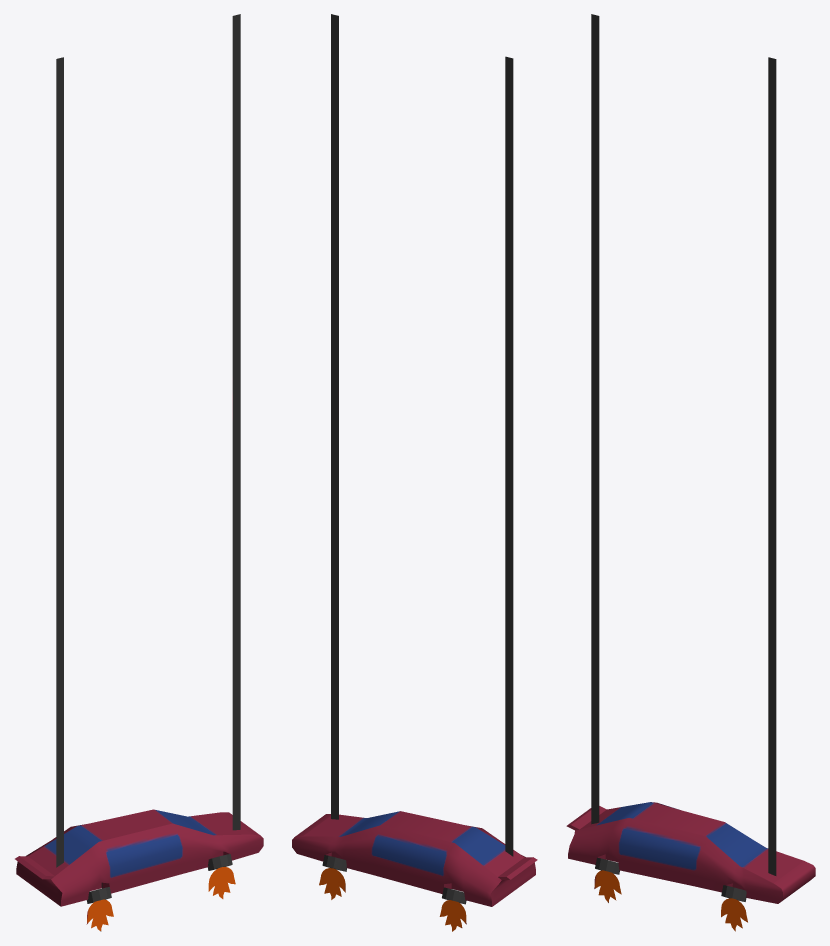
The model's file is FlyingCar.fbx.
3 views of the same model, side by side, from view 1: azimuth 30°, elevation 25°; view 2: azimuth 150°, elevation 25°; view 3: azimuth 330°, elevation 25° (orthographic).
Parts seen in each view (by area): view 1: Car, String2, String1, Flame2, Flame1; view 2: Car, String1, String2, Flame3, Flame4; view 3: Car, String2, String1, Flame2, Flame1.
Part boxes in pixels (left/top/right/bottom): Car: left=15, top=809, right=263, bottom=906; String2: left=232, top=14, right=240, bottom=830; String1: left=56, top=57, right=63, bottom=867; Flame2: left=208, top=866, right=235, bottom=898; Flame1: left=86, top=899, right=113, bottom=931; Car: left=292, top=811, right=537, bottom=906; String1: left=505, top=56, right=513, bottom=856; String2: left=331, top=14, right=338, bottom=819; Flame3: left=319, top=868, right=345, bottom=899; Flame4: left=439, top=900, right=466, bottom=931; Car: left=566, top=802, right=815, bottom=903; String2: left=768, top=57, right=776, bottom=875; String1: left=591, top=14, right=599, bottom=824; Flame2: left=721, top=898, right=747, bottom=931; Flame1: left=594, top=870, right=621, bottom=902.
Bounding box in the file's own units: 8.16 × 31.01 × 3.47.
